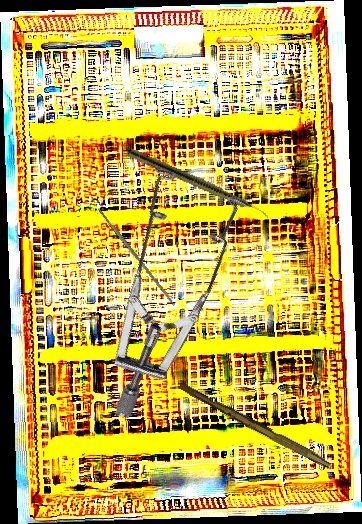Handpiece: (127, 147, 272, 221)
Scalpel Handle: (176, 381, 334, 469), (96, 205, 177, 308)
Speculum: (10, 135, 308, 424)
